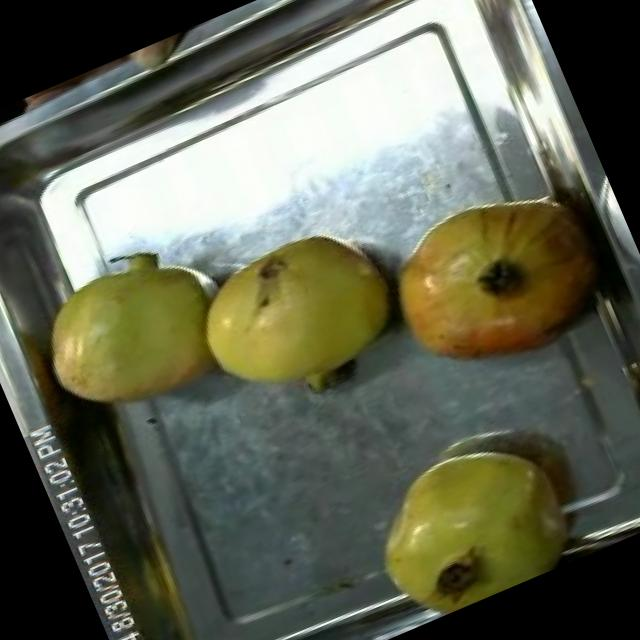fruit: (362, 162, 628, 406), (334, 407, 600, 634), (170, 203, 421, 429), (15, 220, 251, 440), (106, 26, 206, 89)
